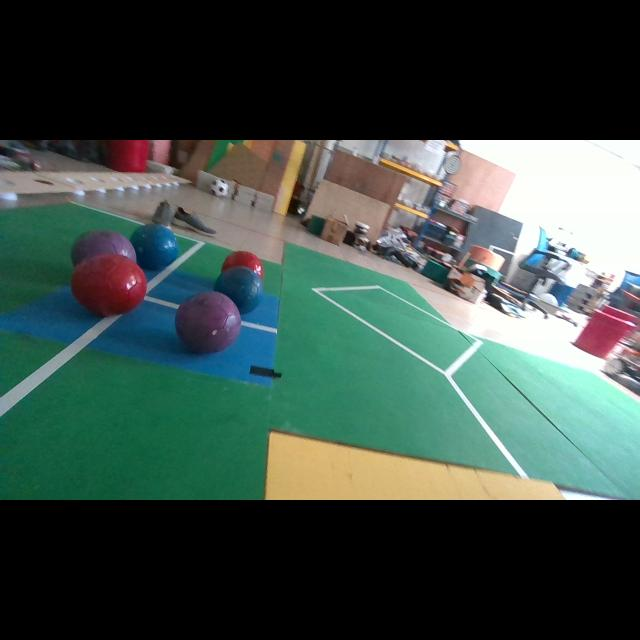B: (214, 266, 264, 314), (130, 225, 178, 269)
P: (175, 291, 241, 354), (71, 230, 136, 266)
R: (71, 254, 148, 316), (221, 251, 264, 279)
